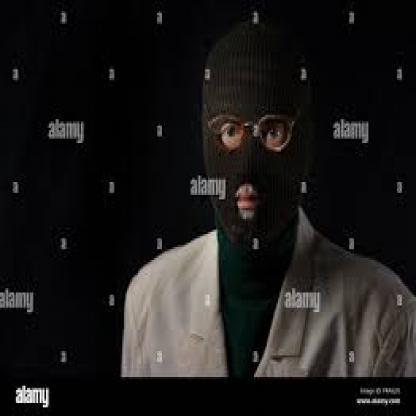criminal: (121, 23, 416, 377)
